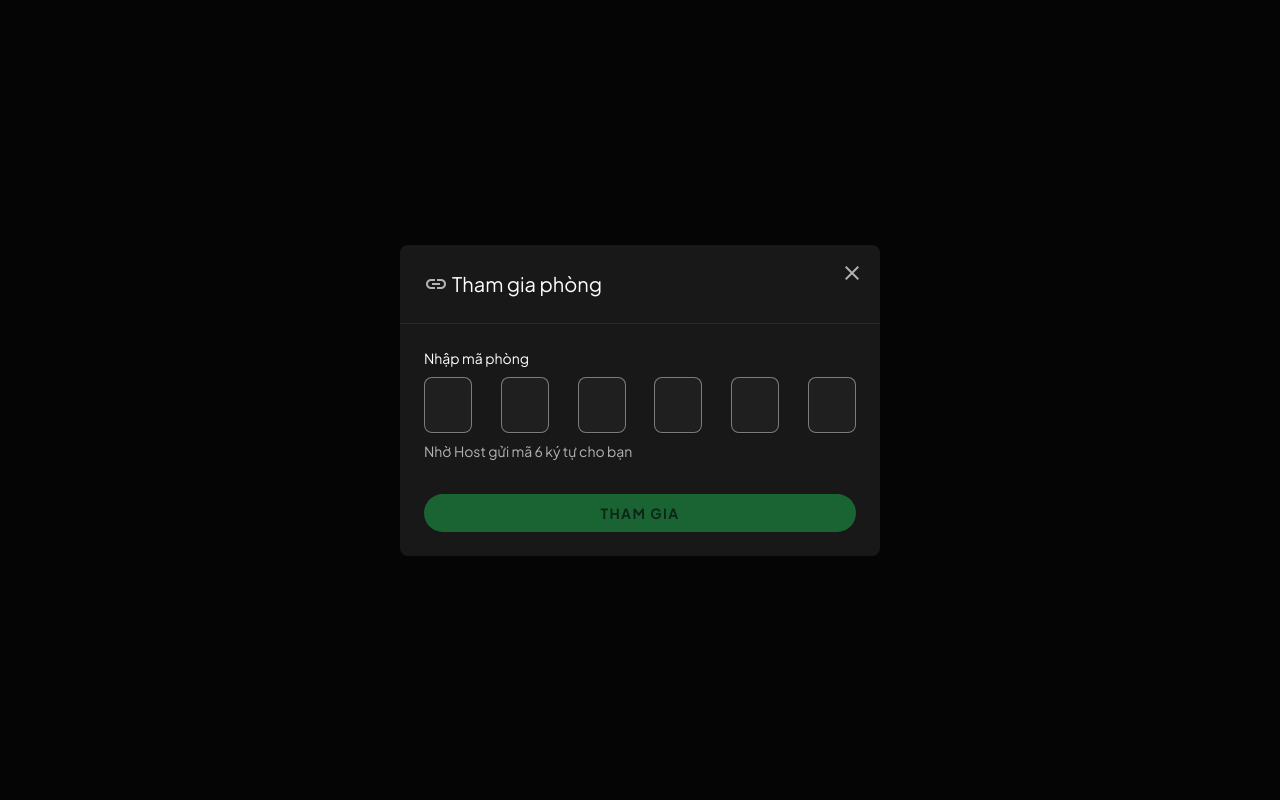
Test: JoinRoomModal › Code input › join button enabled when 6 chars filled
Type "A" into the field named "Ký tự 1" at (448, 404), box [424,376,472,432]
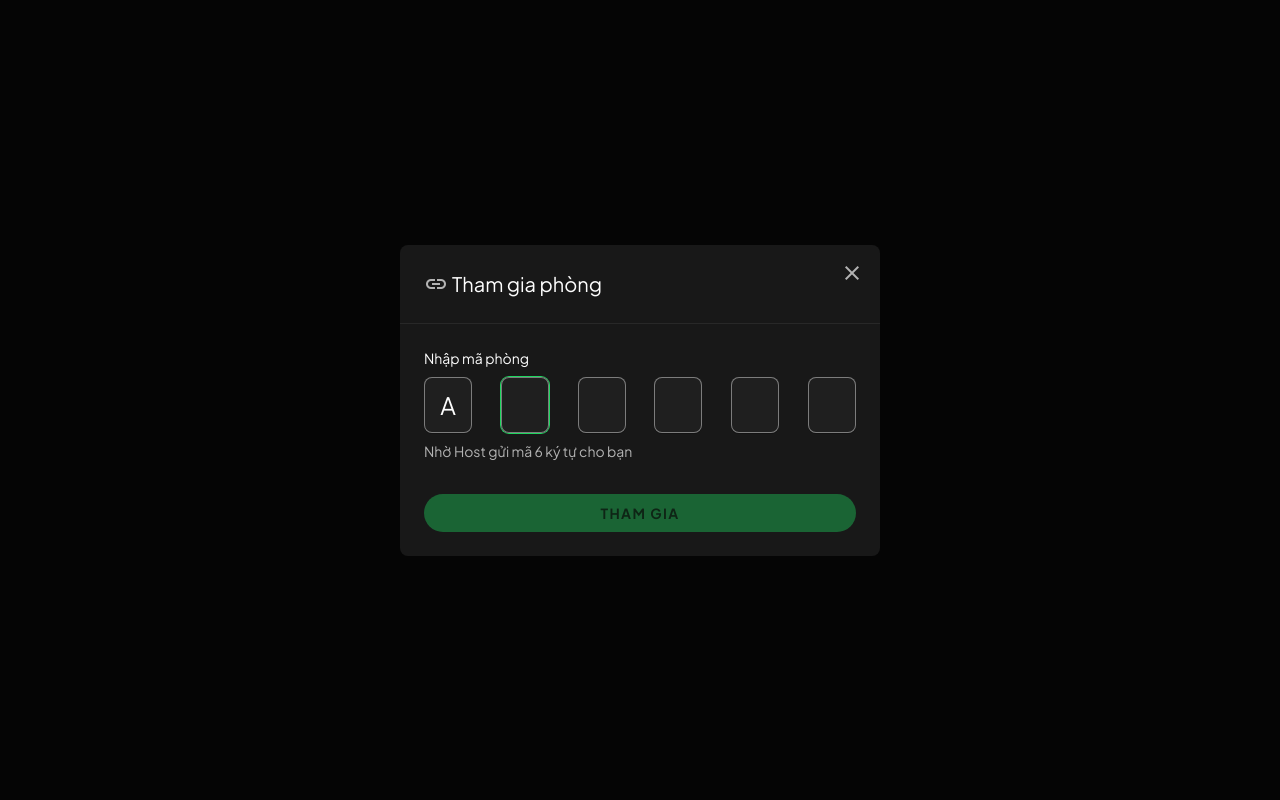
Type "B" into the field named "Ký tự 2" at (525, 404), box [501,376,549,432]
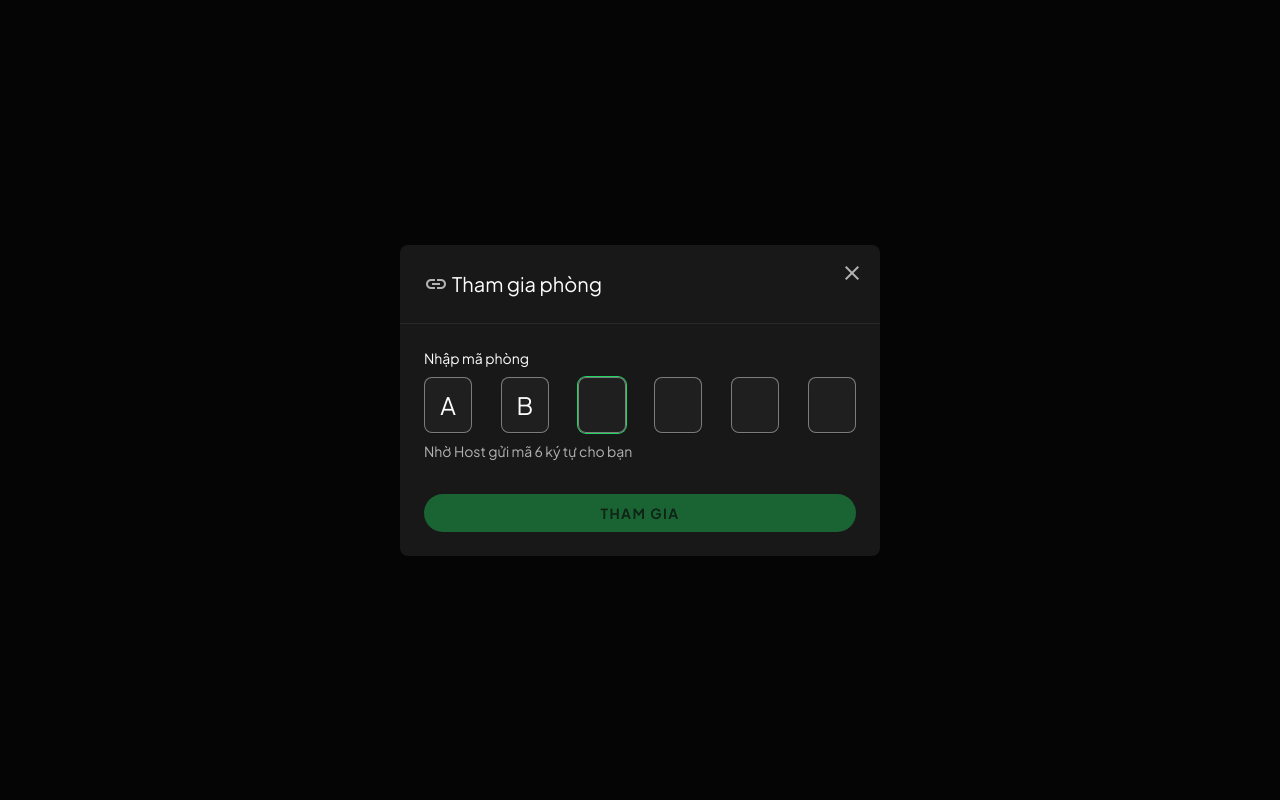
Type "C" into the field named "Ký tự 3" at (602, 404), box [578,376,626,432]
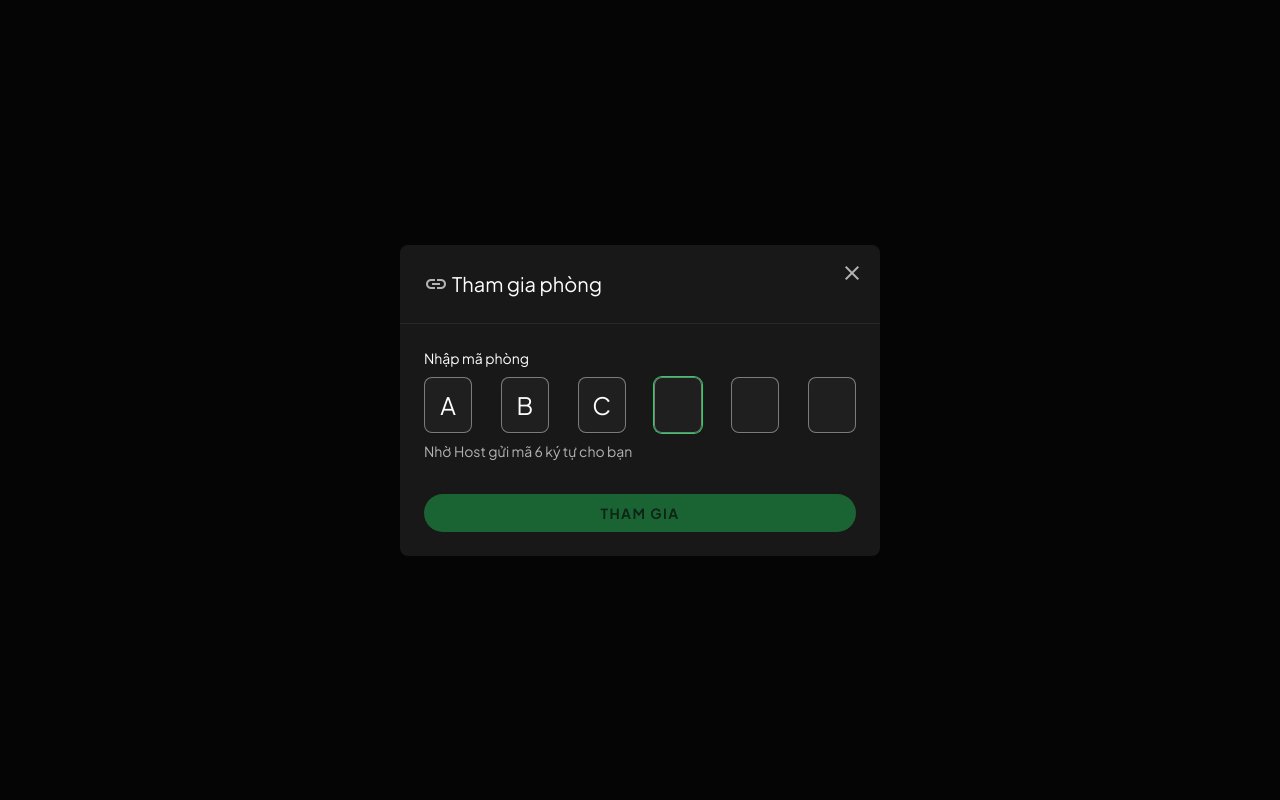
Type "1" into the field named "Ký tự 4" at (678, 404), box [654,376,702,432]
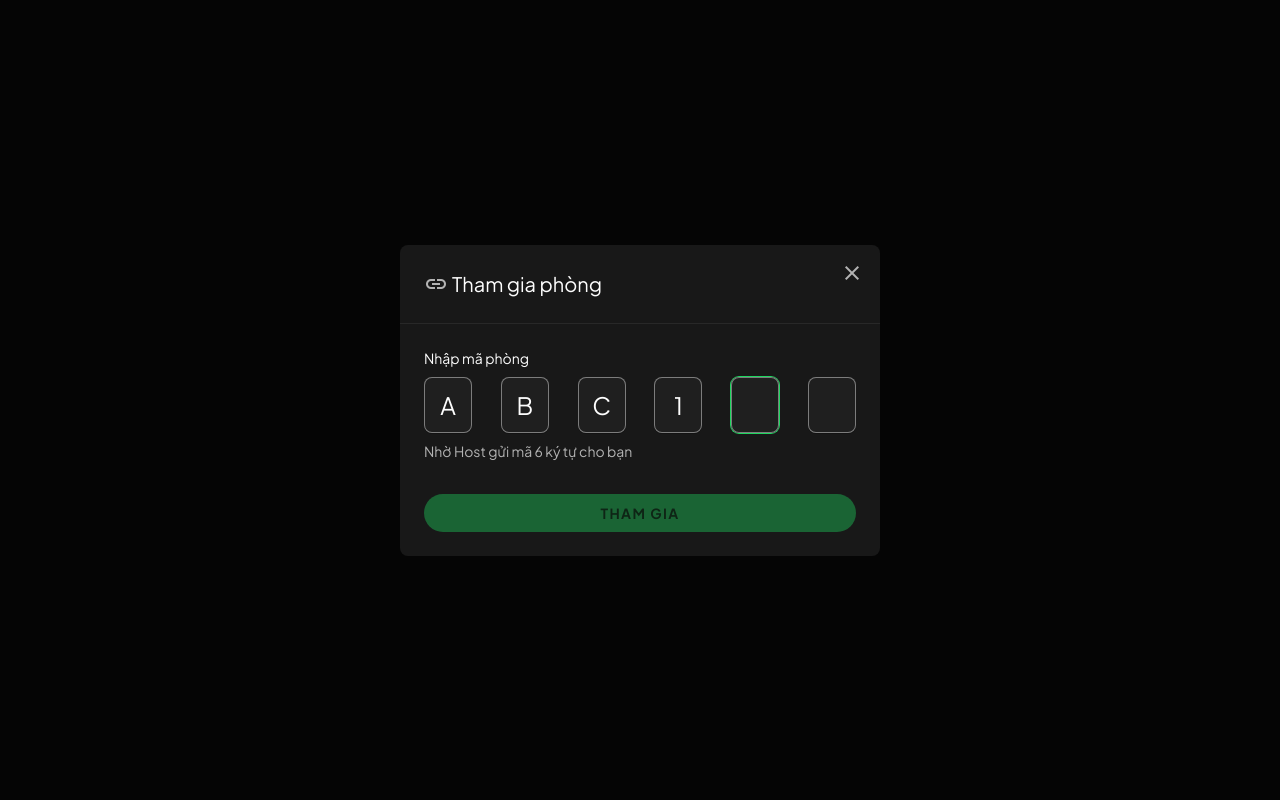
Type "2" into the field named "Ký tự 5" at (755, 404), box [731,376,779,432]
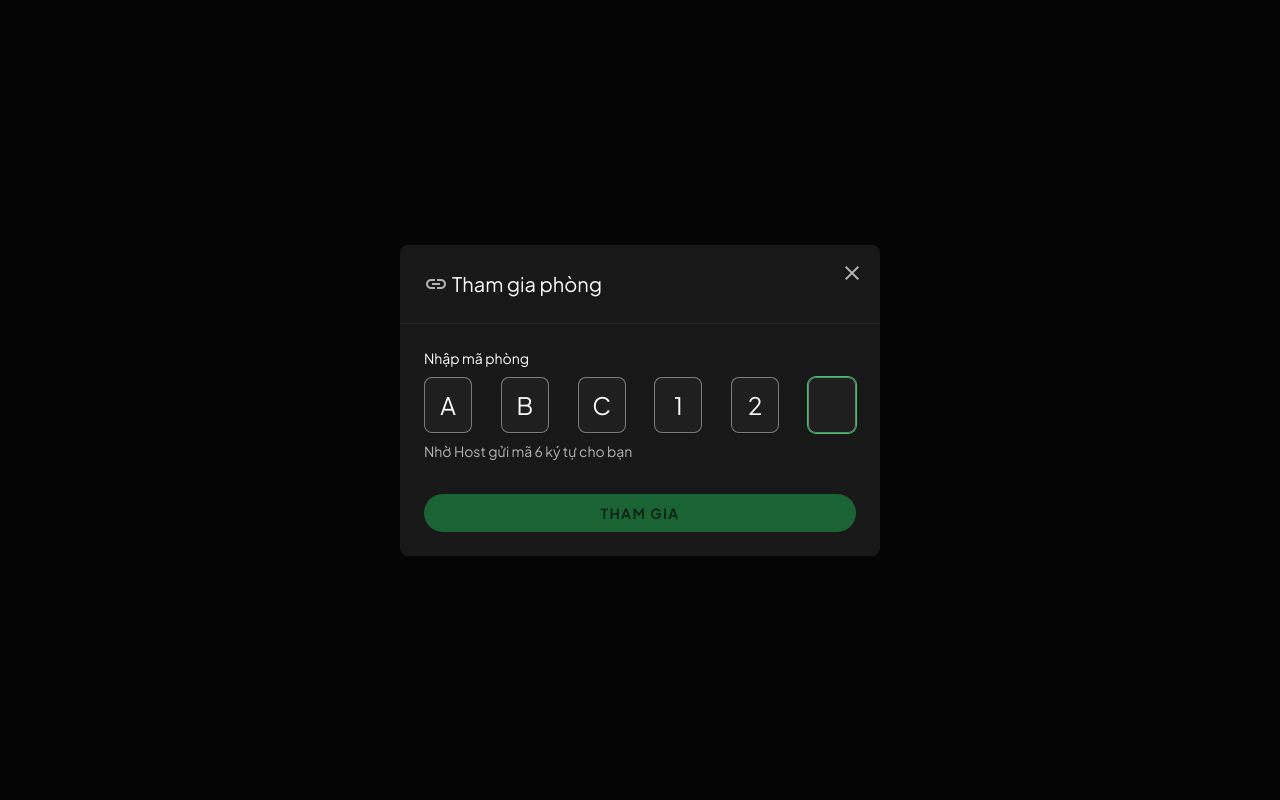
Type "3" into the field named "Ký tự 6" at (832, 404), box [808,376,856,432]
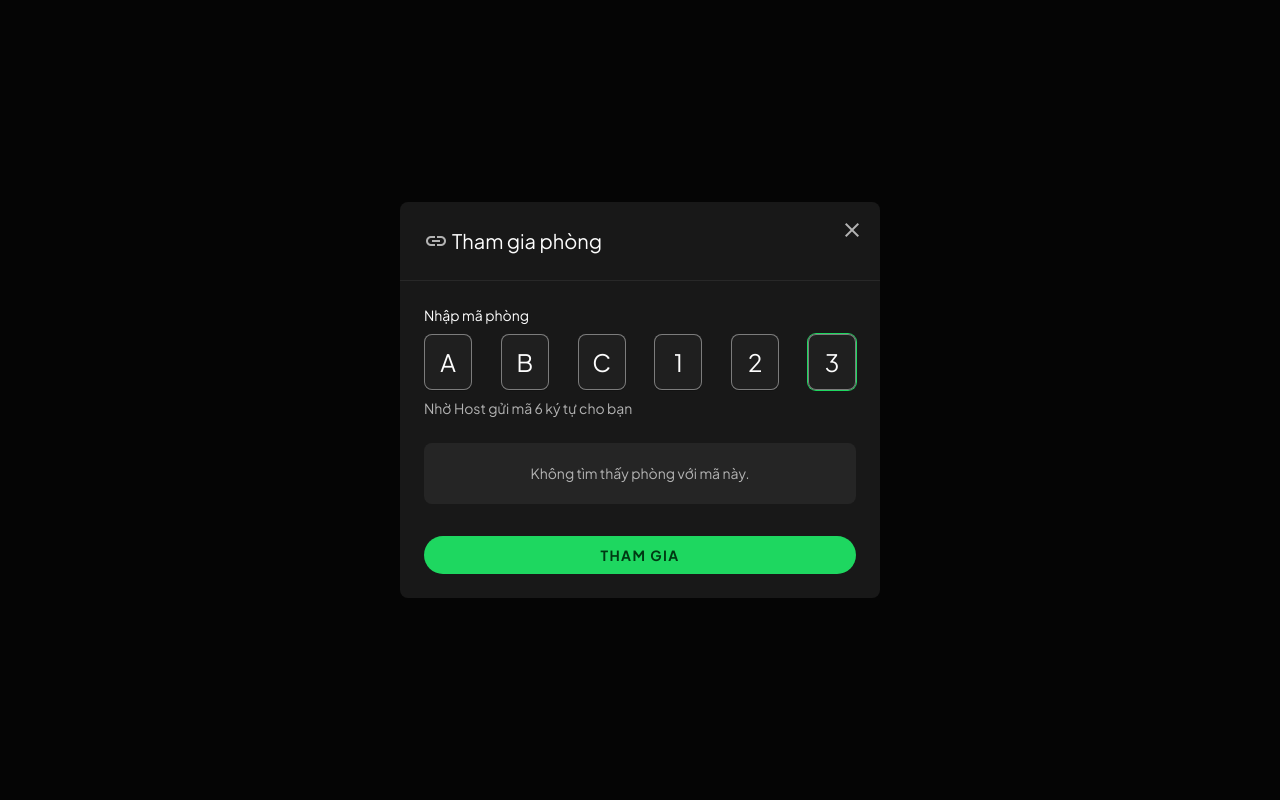
Result: the button "THAM GIA" is enabled at [424,536,856,574]
